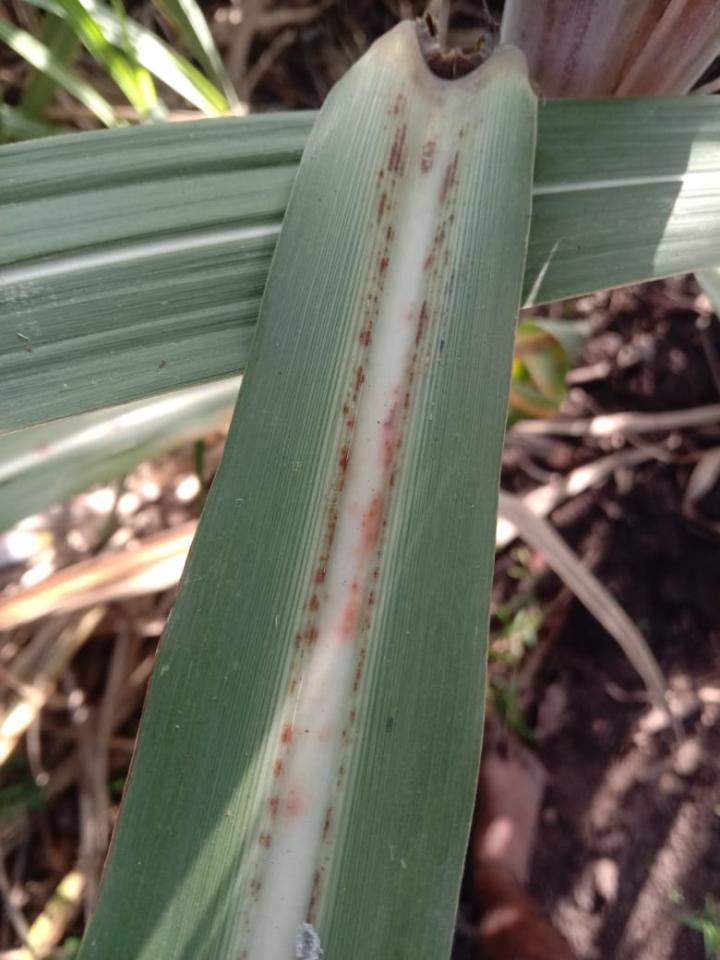RedRot: (348, 492, 384, 572), (329, 577, 363, 648), (377, 403, 399, 474), (281, 790, 309, 824), (421, 139, 439, 176)
Rust: (432, 148, 460, 266), (312, 494, 339, 587), (386, 122, 413, 179), (305, 871, 321, 924), (455, 115, 485, 142), (384, 89, 411, 118), (414, 298, 429, 349), (337, 445, 352, 494), (292, 626, 320, 650), (350, 364, 367, 403), (353, 647, 367, 693), (375, 191, 390, 224), (358, 319, 373, 349), (320, 808, 333, 842), (278, 722, 294, 746), (383, 219, 397, 243), (272, 758, 285, 780), (308, 590, 320, 613), (269, 797, 280, 821), (378, 257, 390, 278), (258, 831, 272, 849), (250, 877, 263, 894), (402, 391, 411, 411), (367, 589, 377, 606), (289, 679, 299, 696), (345, 416, 357, 430), (388, 469, 397, 487), (347, 709, 356, 726), (372, 565, 381, 580), (394, 438, 404, 450), (374, 549, 384, 561), (376, 167, 385, 180), (235, 950, 248, 959), (408, 371, 415, 385), (390, 178, 398, 189), (411, 352, 418, 364), (299, 649, 306, 661), (342, 405, 349, 415), (338, 766, 345, 776), (375, 181, 382, 190), (363, 309, 370, 318), (386, 204, 393, 212), (382, 519, 388, 528), (335, 779, 341, 788), (367, 293, 373, 301), (401, 415, 408, 421), (245, 929, 252, 935), (374, 295, 378, 304), (244, 919, 250, 925), (320, 865, 325, 872), (342, 730, 347, 737), (379, 285, 384, 292), (361, 627, 366, 634), (384, 245, 388, 252), (375, 309, 379, 316), (367, 623, 371, 629), (365, 618, 368, 623)
